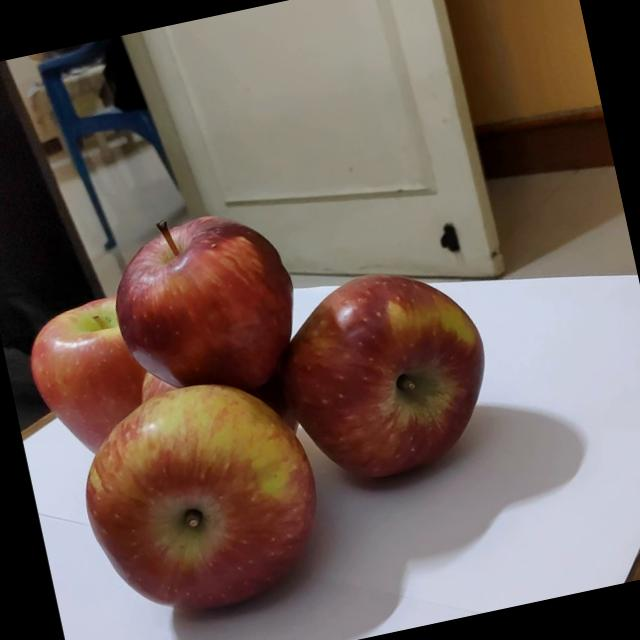apple: (253, 228, 532, 518), (94, 386, 316, 614), (96, 190, 312, 408), (0, 261, 190, 458)
